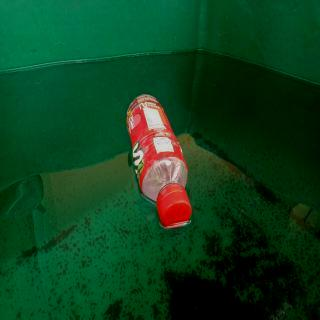bottle: (126, 92, 192, 230)
